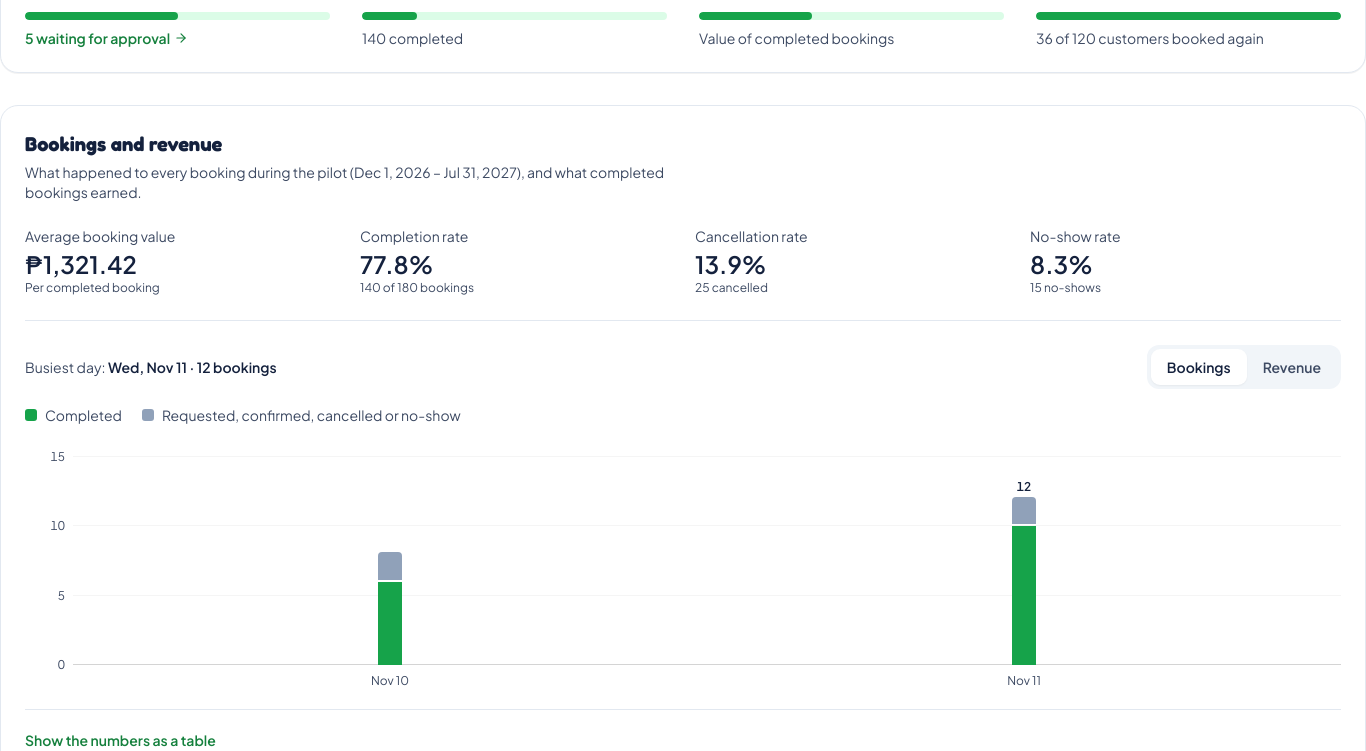
Analytics UI Components › MetricsDashboard › switches the trend chart between bookings and revenue
(page scrolled)
Click the button "Revenue".
click(1292, 367)  # box [1247,349,1337,385]
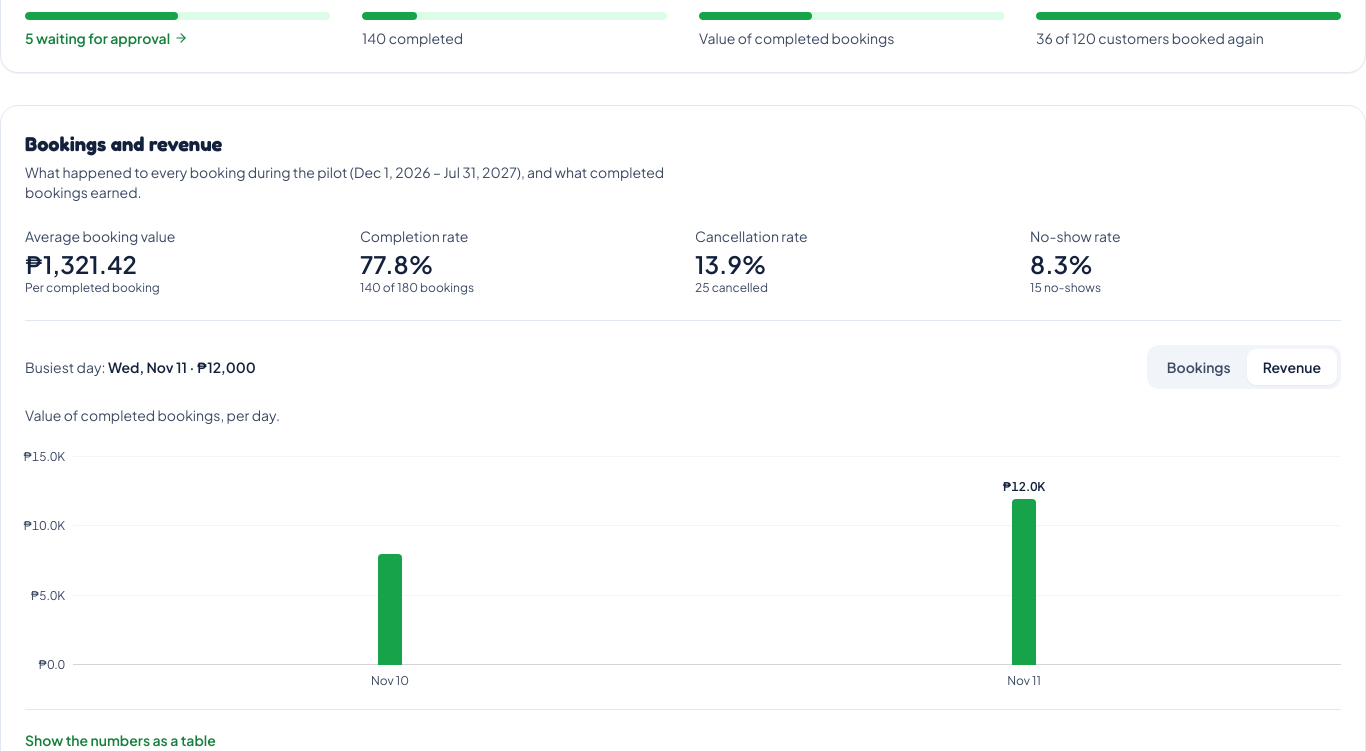
Now the text "Value of completed bookings, per day." is shown, box [25,406,280,424]
